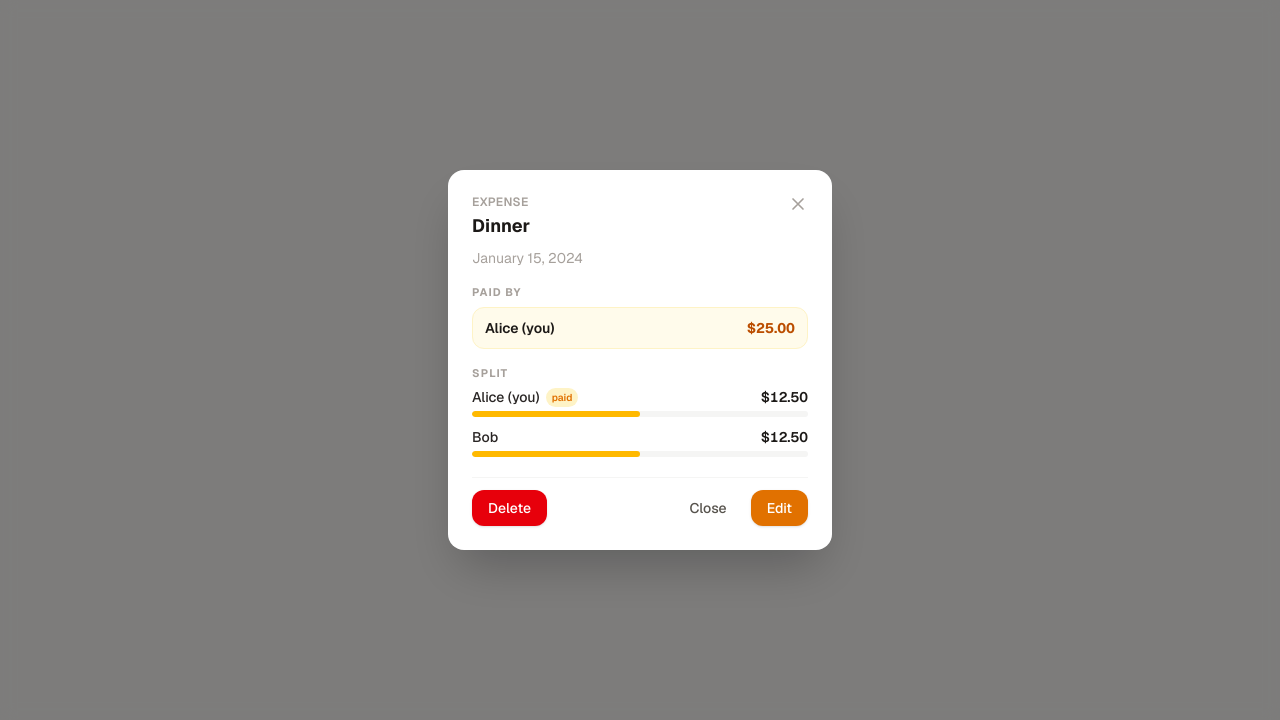
Test: ExpenseDetailModal — Save changes button disabled until something changes › becomes enabled after changing the description
The image size is (1280, 720).
Step 1. Click the button with aria-label "edit expense" → (779, 508), box [751,490,808,526]
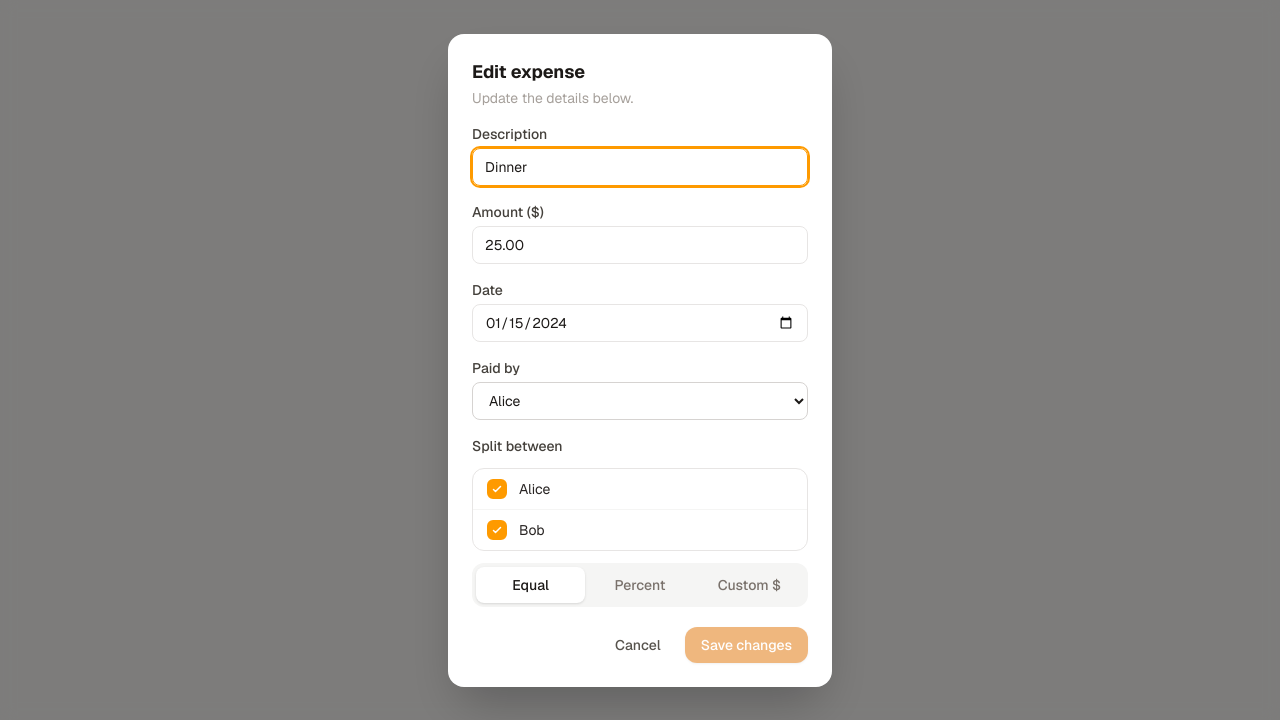
Step 2. Replace the text in the field labelled "Description" with "Lunch" → (640, 166), box [472,148,808,186]
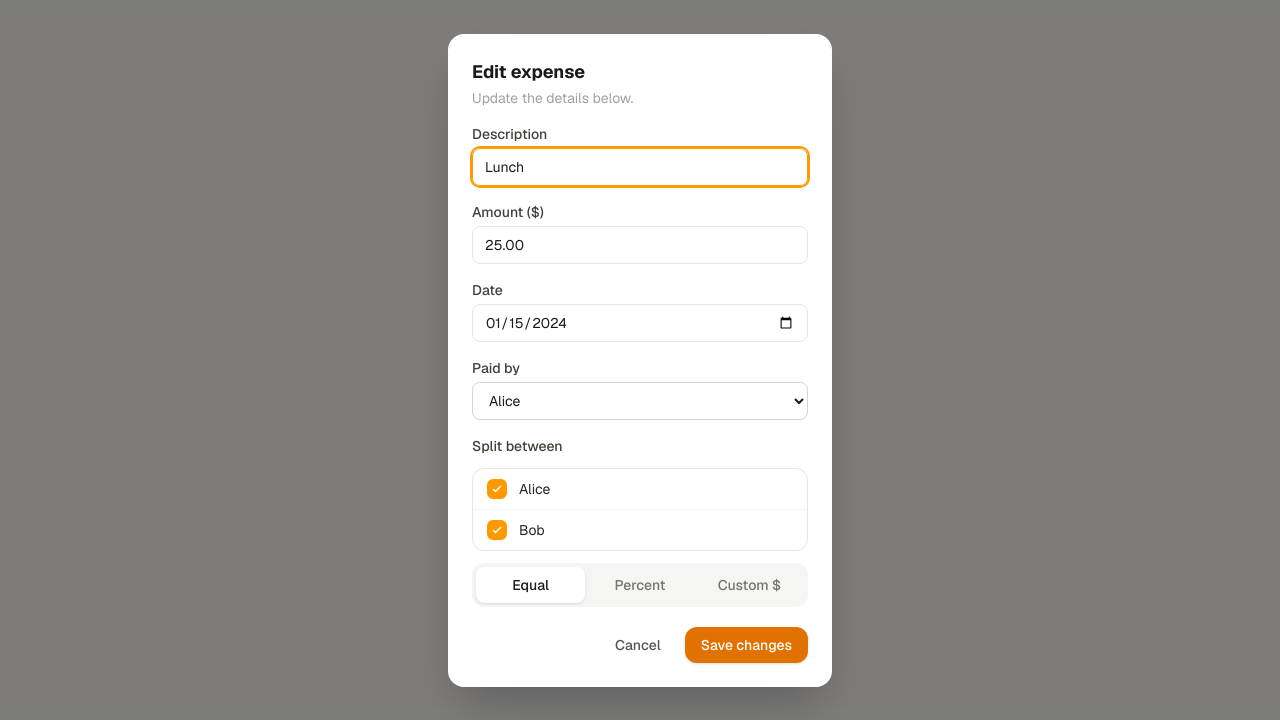
Now the button "Save changes" is enabled, box [685,626,808,662]
